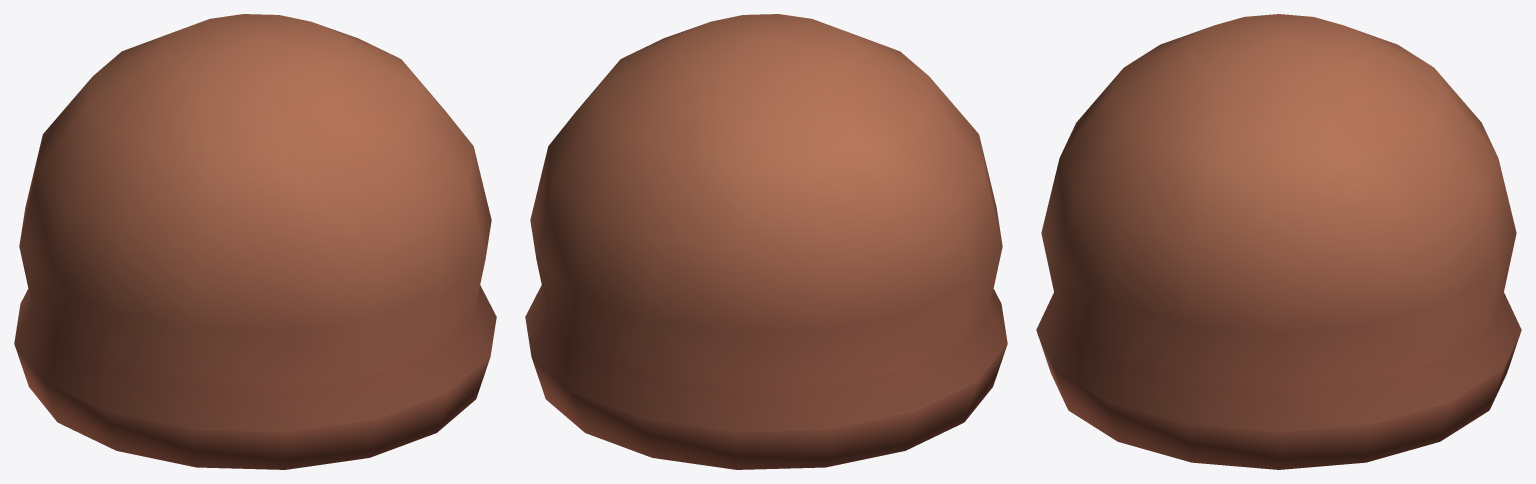
File: icecream_bowl_icecream_chocolate.obj
The picture shows the model from 3 angles, left to right: view 1: azimuth 30°, elevation 25°; view 2: azimuth 150°, elevation 25°; view 3: azimuth 270°, elevation 25°; orthographic projection.
Visible parts, largest first — view 1: icecream_bowl_icecream_chocolate_Sphere.101; view 2: icecream_bowl_icecream_chocolate_Sphere.101; view 3: icecream_bowl_icecream_chocolate_Sphere.101.
Boxes of the visible parts, x1,y1,x2,y2 form: icecream_bowl_icecream_chocolate_Sphere.101: [14, 14, 496, 469]; icecream_bowl_icecream_chocolate_Sphere.101: [525, 14, 1007, 469]; icecream_bowl_icecream_chocolate_Sphere.101: [1036, 14, 1521, 469].
Size of the model in its own units: 0.45 by 0.36 by 0.45.
1 material, 1 textured.
